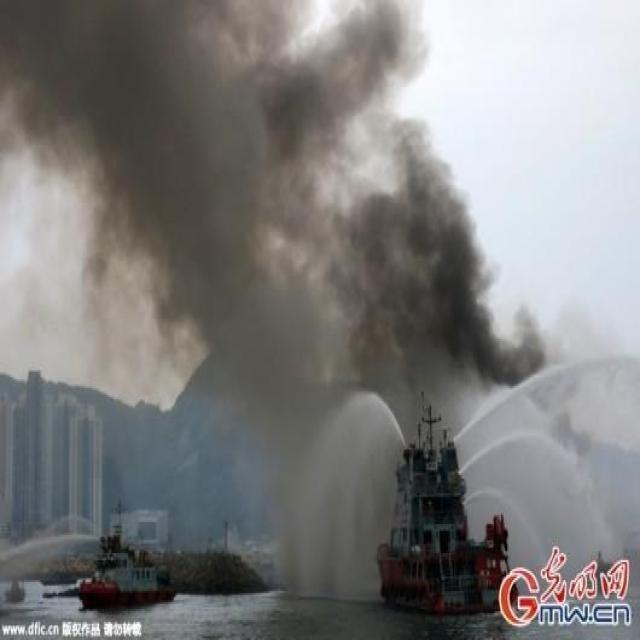Smoke: (1, 2, 546, 420)
